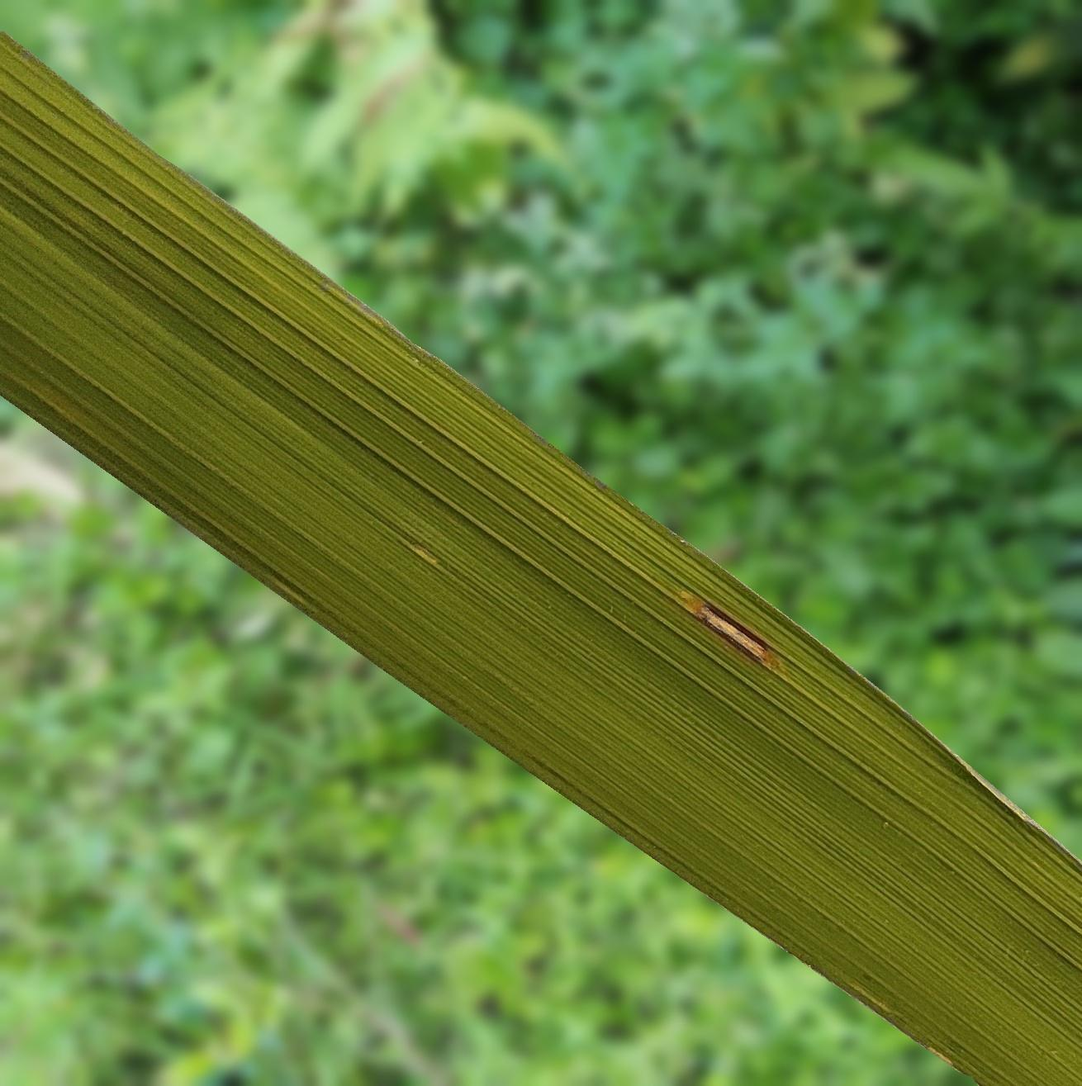LEAF BLAST: (680, 594, 777, 667)
